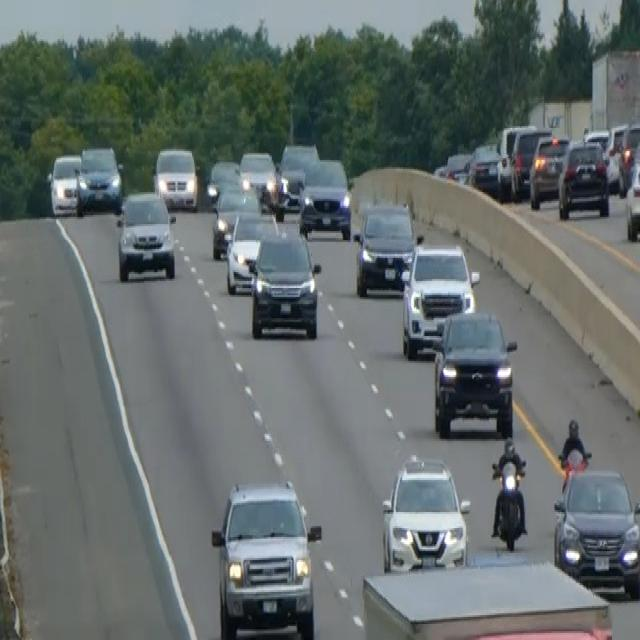car: (431, 308, 517, 439), (552, 464, 639, 592), (380, 452, 470, 572), (400, 240, 479, 359), (249, 228, 321, 340), (353, 199, 418, 297), (115, 188, 176, 282), (225, 208, 279, 293), (298, 156, 352, 240), (557, 137, 610, 220), (211, 178, 260, 260), (76, 144, 122, 213), (528, 133, 570, 208), (153, 144, 198, 212), (496, 121, 536, 197), (510, 126, 551, 198), (277, 140, 319, 210), (238, 148, 279, 210), (466, 140, 505, 198), (48, 151, 82, 215), (205, 156, 241, 208), (617, 119, 639, 194), (604, 121, 627, 188), (624, 144, 639, 240), (433, 149, 470, 183)
jeep: (209, 476, 322, 638)
motorcycle: (489, 455, 527, 551)
